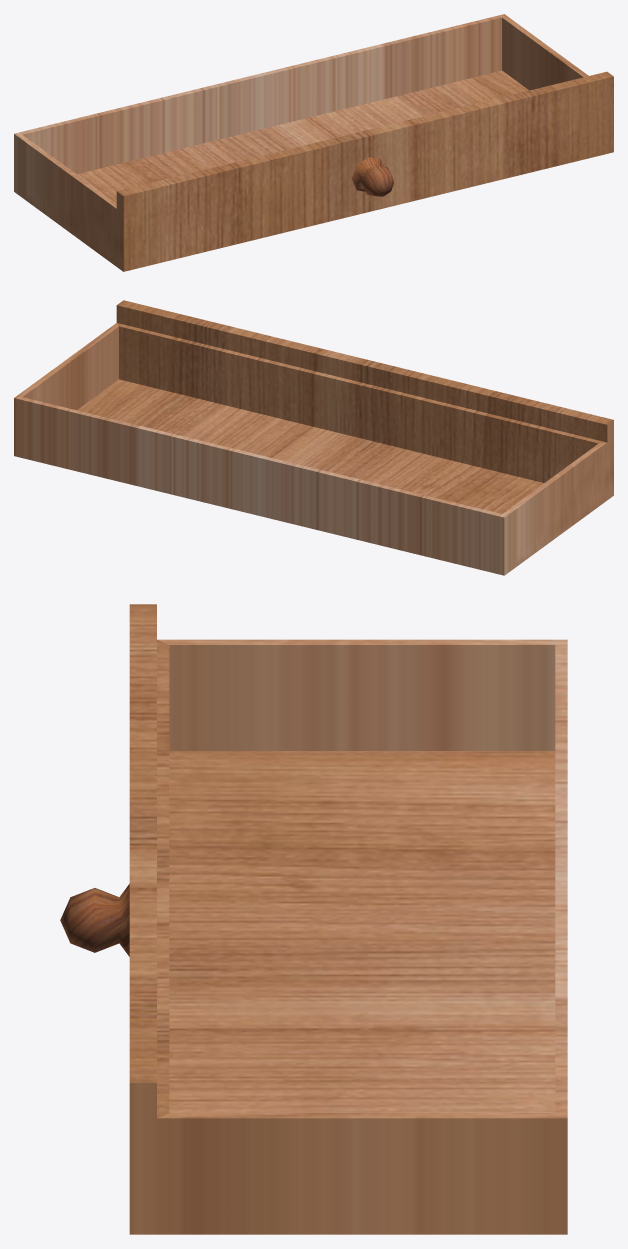
File: drawer_01 1.fbx
3 renders of one model, top to bottom at view 1: azimuth 30°, elevation 25°; view 2: azimuth 150°, elevation 25°; view 3: azimuth 270°, elevation 25°, orthographic. The views are drawn at different scales.
Parts seen in each view (by area): view 1: drawer_01; view 2: drawer_01; view 3: drawer_01.
Part boxes in pixels (box(x1,y1,x2,y2)): drawer_01: box(14, 14, 613, 271); drawer_01: box(14, 300, 613, 575); drawer_01: box(60, 604, 567, 1234).
Size of the model in its own units: 38.44 by 5.67 by 17.23.
